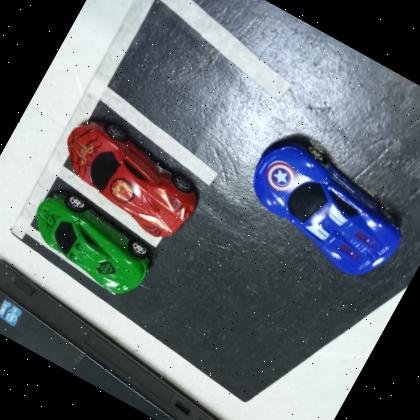Car: (229, 127, 420, 292), (45, 104, 214, 250), (19, 184, 164, 306)
